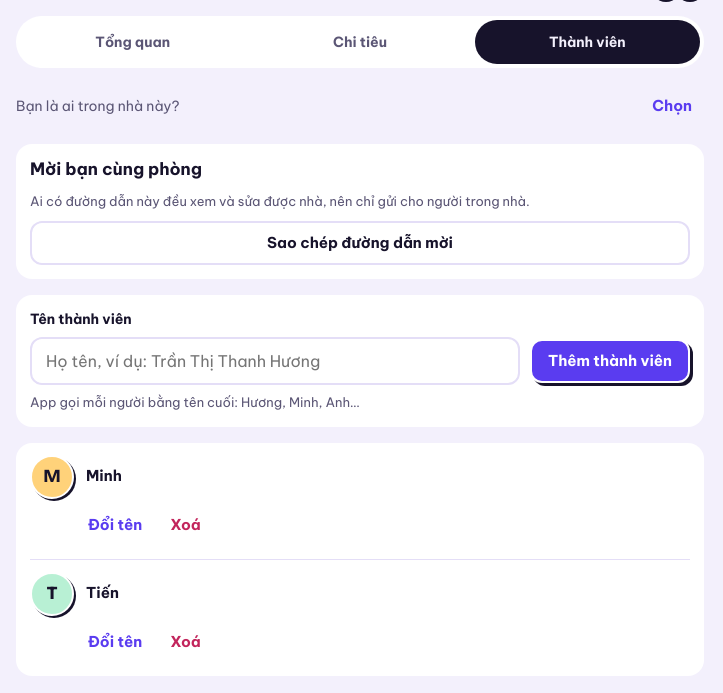
Test: removing a member takes them off the list
(page scrolled)
What coordinates should you click on to do the following:
click the button with aria-label "Xoá Tiến"
I would click on:
 (185, 642)
Its box is [158, 620, 213, 664].
(page scrolled)
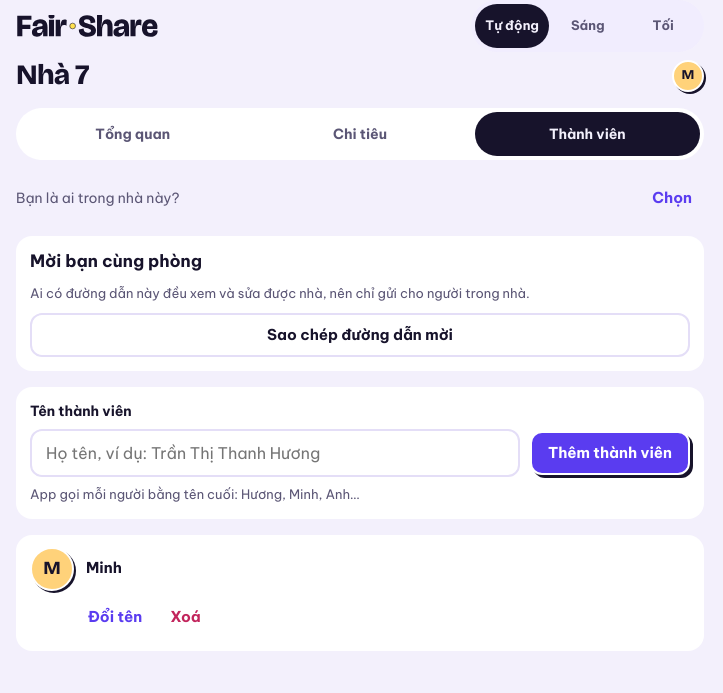
Check: the text "Tiến" is gone
